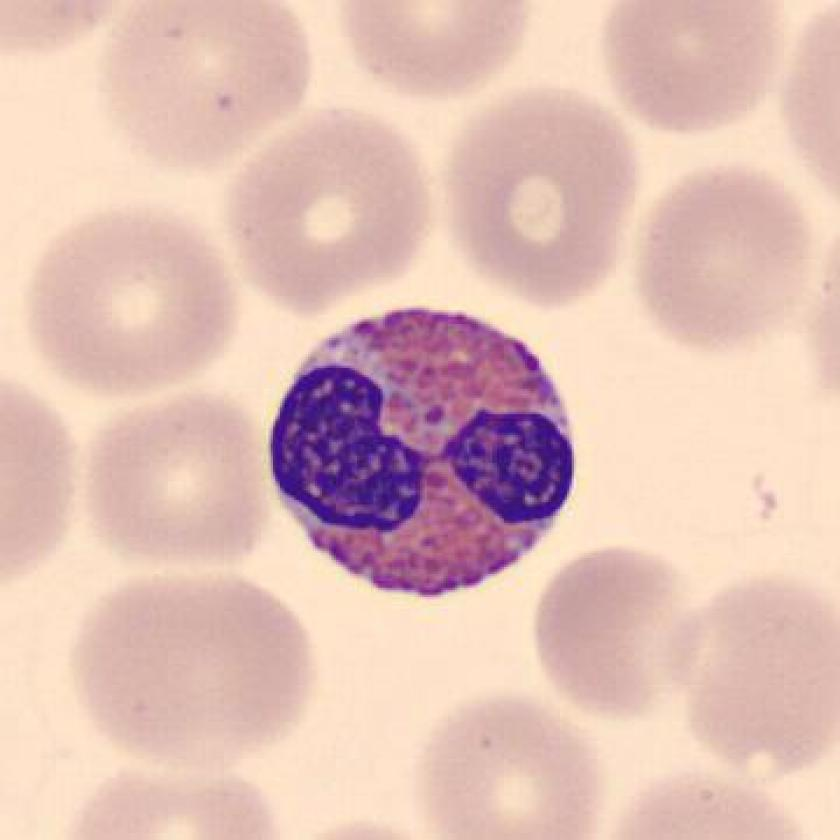eosinophil: (255, 295, 582, 612)
